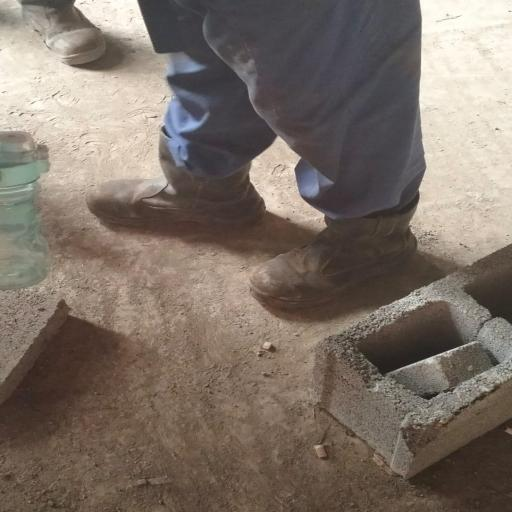safety_shoe: (84, 129, 274, 234), (252, 215, 446, 310), (12, 0, 115, 65)
